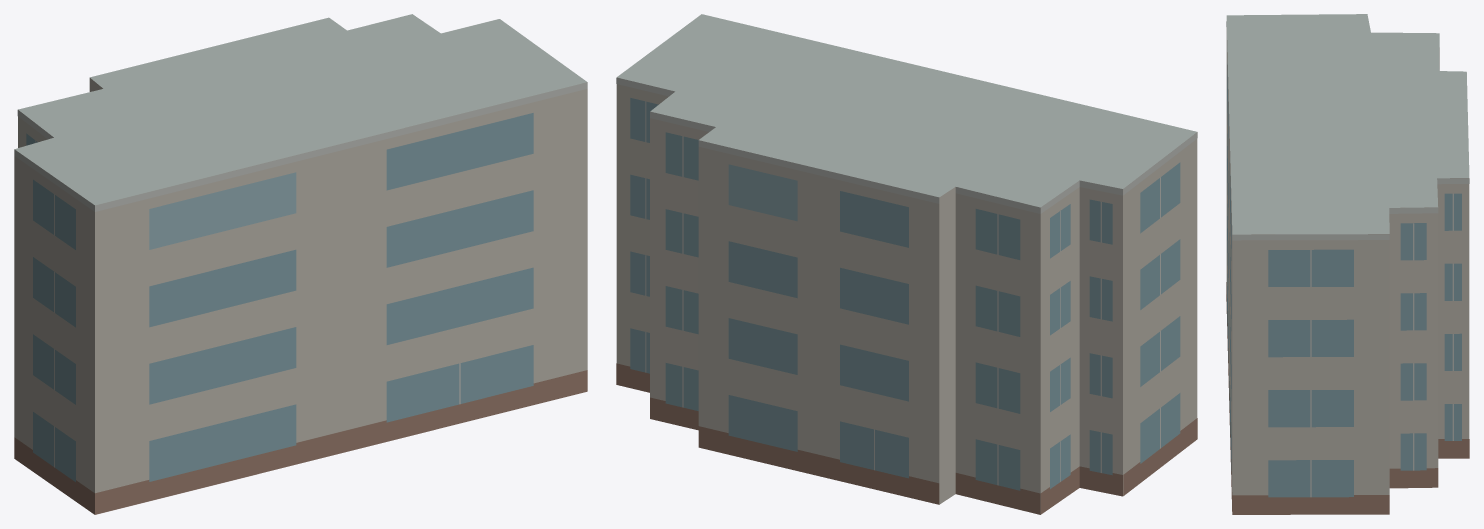
File: survey-upis-32917302.glb
The picture shows the model from 3 angles, left to right: view 1: azimuth 30°, elevation 25°; view 2: azimuth 150°, elevation 25°; view 3: azimuth 270°, elevation 25°; orthographic projection. The views are drawn at different scales.
Parts seen in each view (by area): view 1: survey-upis-32917302.tmp; view 2: survey-upis-32917302.tmp; view 3: survey-upis-32917302.tmp.
Part boxes in pixels (left/top/right/bottom): survey-upis-32917302.tmp: left=14, top=14, right=587, bottom=514; survey-upis-32917302.tmp: left=616, top=14, right=1197, bottom=514; survey-upis-32917302.tmp: left=1226, top=14, right=1469, bottom=514.
Bounding box in the file's own units: 19.24 × 11.4 × 8.97.
